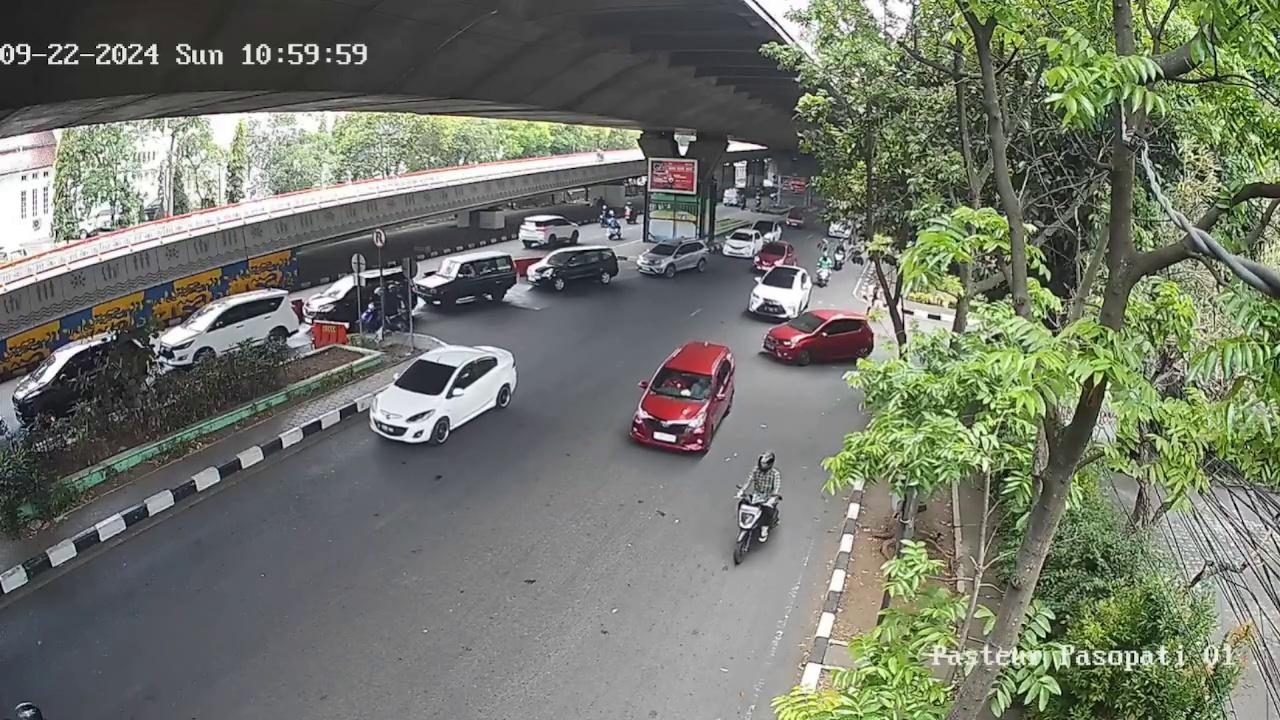pakai: (689, 379, 711, 398), (664, 373, 684, 391)
windshield: (651, 362, 715, 400), (396, 364, 455, 390), (763, 272, 800, 287)
